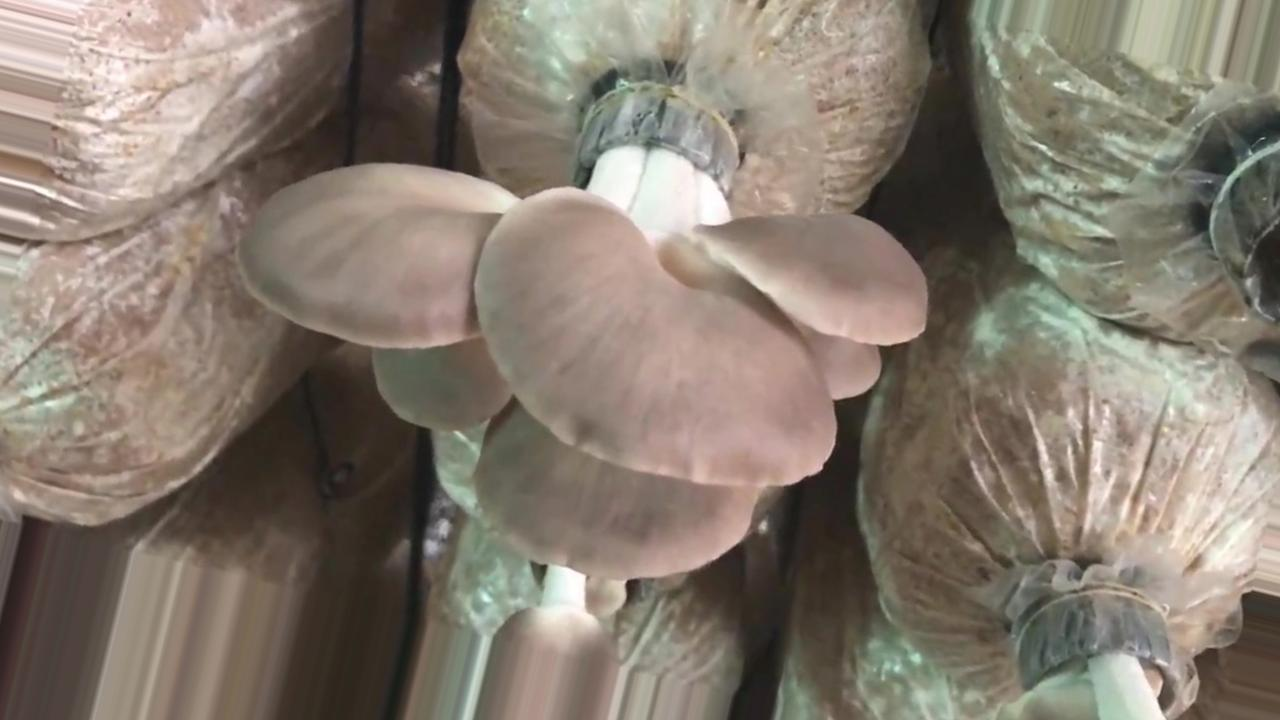nam: (242, 86, 927, 579), (479, 567, 628, 719)
